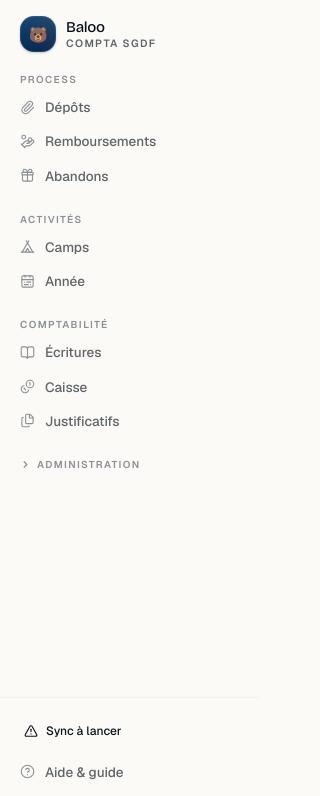
Test: <Sidebar> — groupe Comptabilité + bloc Administration repliable › cliquer sur Administration déplie les items système
This screenshot has width=320, height=796.
Step 1. Click the button "Administration" → coordinates (122, 464), box [8,457,237,472]
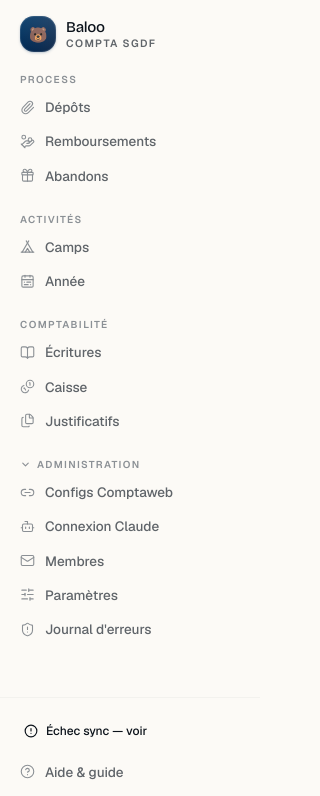
Check: the text "Configs Comptaweb" is shown, box [45,483,173,501]
